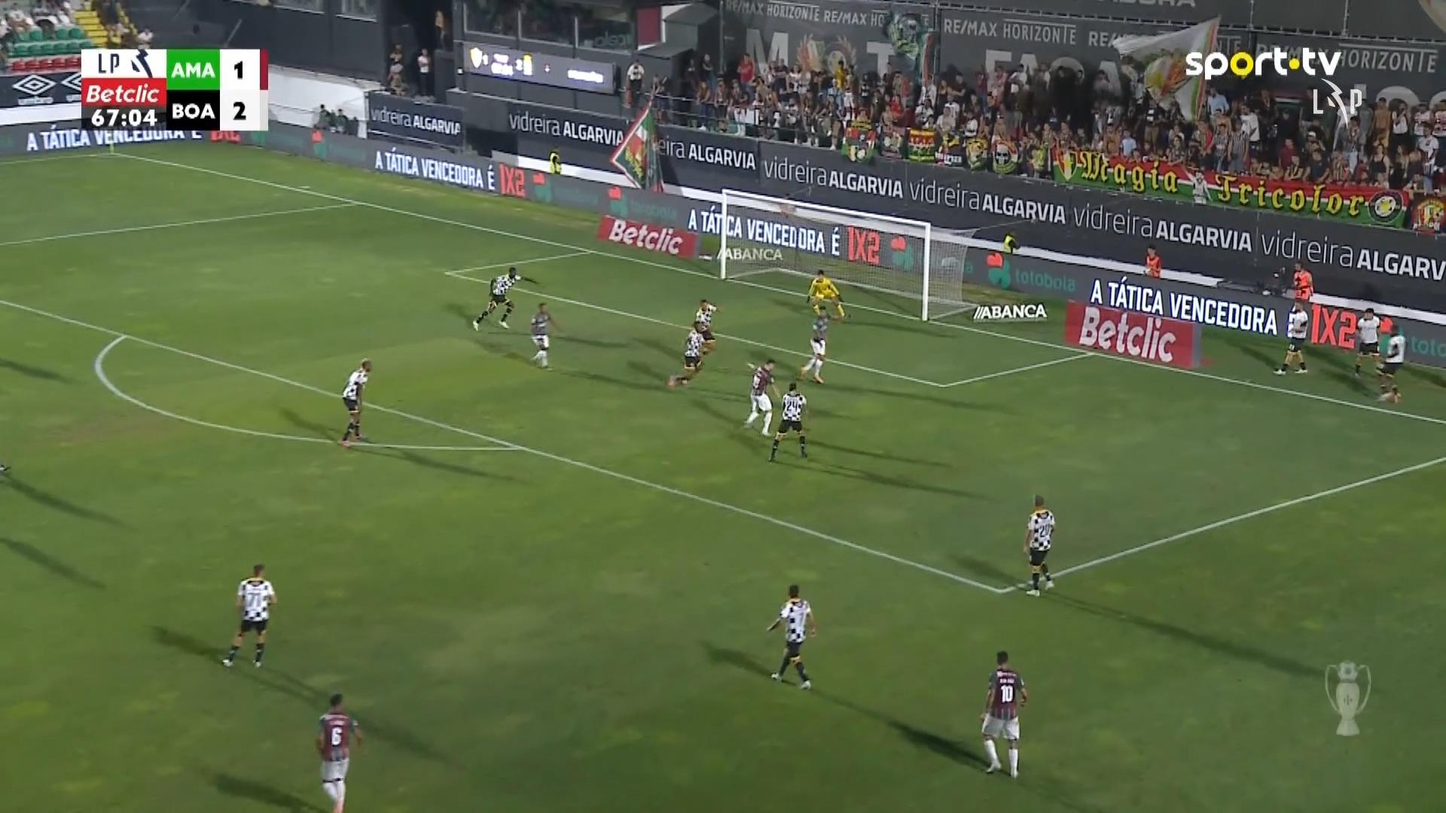goalkeeper: (805, 267, 847, 320)
player: (979, 650, 1027, 778), (315, 693, 364, 811), (221, 563, 276, 668), (765, 583, 817, 690), (471, 265, 538, 332), (1023, 494, 1056, 596), (767, 381, 808, 462), (339, 358, 372, 446), (741, 358, 776, 436), (668, 321, 710, 386), (798, 305, 829, 383), (528, 301, 562, 368), (693, 297, 718, 352)
